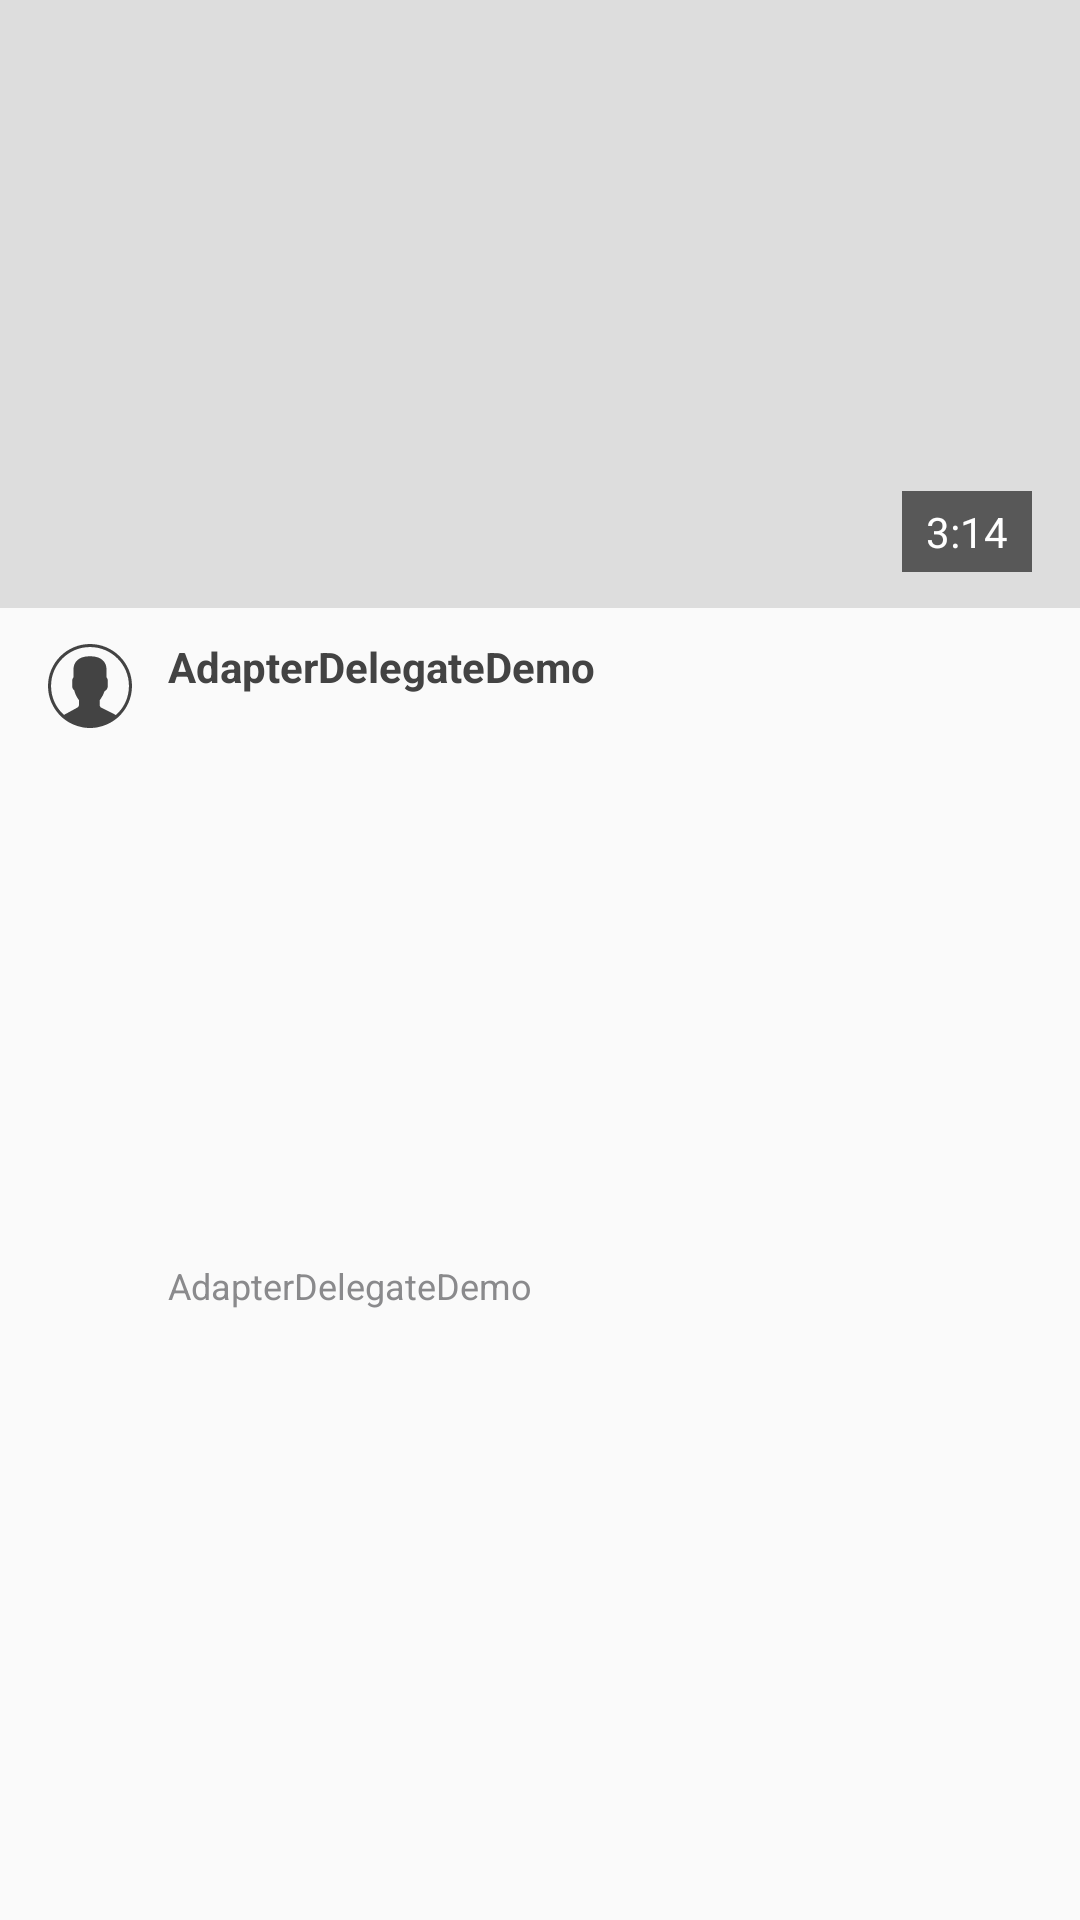

Point at icon controls on the screen. Image size 1080 x 1920, points as point (x, y).
user: point (90, 686)
